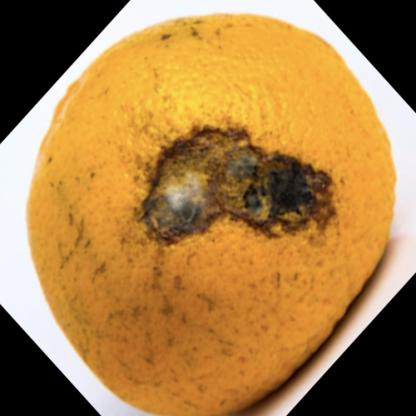rotten: (29, 16, 396, 416)
